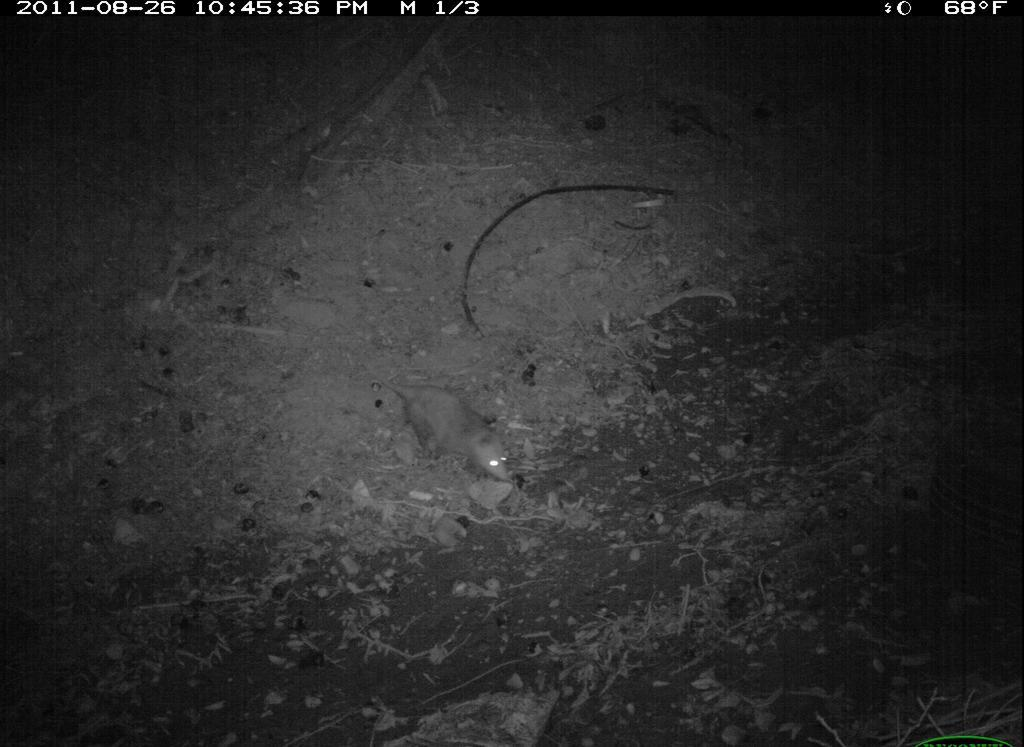opossum: (349, 342, 537, 506)
